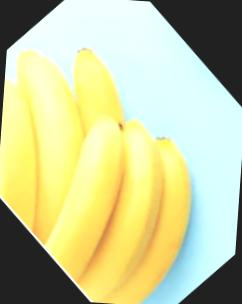Banana Ripe: (0, 0, 236, 304)
